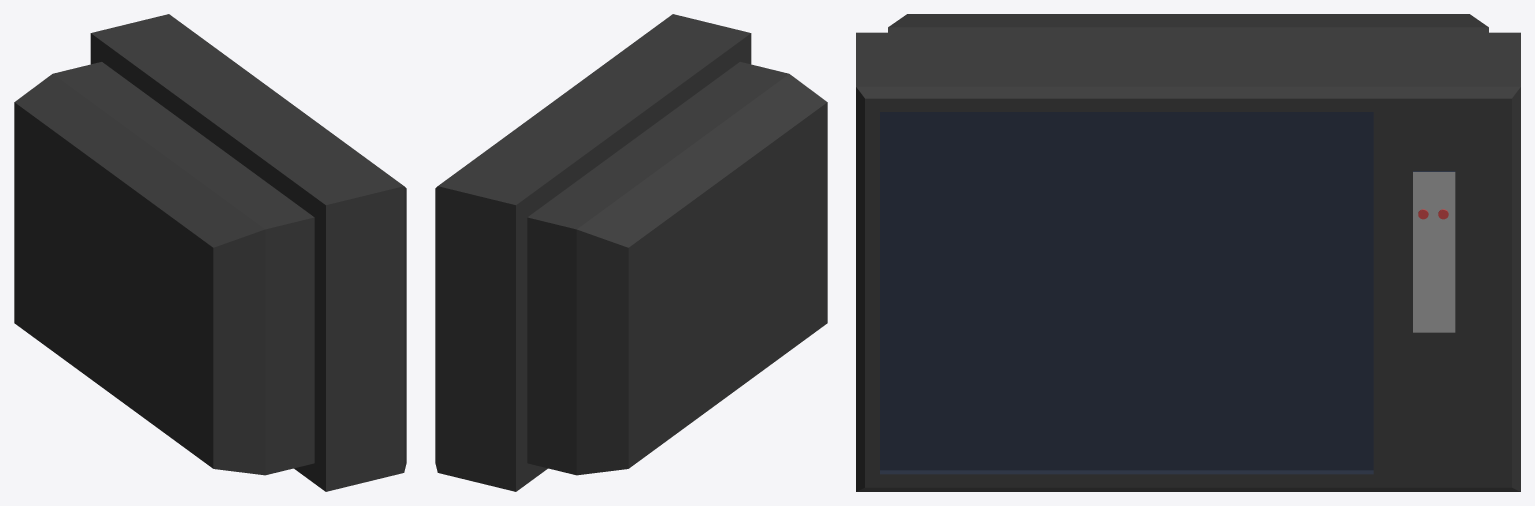
The model's file is KFTV2_2.fbx.
3 views of the same model, side by side, from view 1: azimuth 30°, elevation 25°; view 2: azimuth 150°, elevation 25°; view 3: azimuth 270°, elevation 25° (orthographic). The views are drawn at different scales.
Visible parts, largest first — view 1: TV; view 2: TV; view 3: TV.
Boxes of the visible parts, bbox=[...] form: TV: bbox=[14, 14, 406, 491]; TV: bbox=[435, 14, 827, 491]; TV: bbox=[856, 14, 1520, 491].
Size of the model in its own units: 88.92 by 135 by 200.
